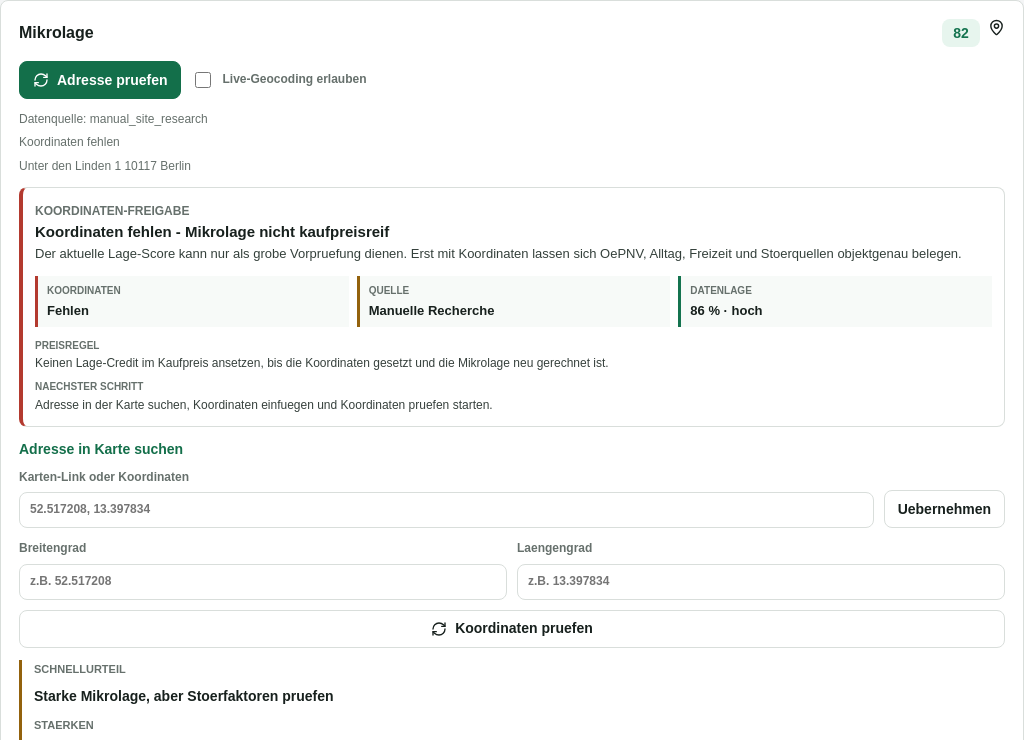
Test: DealMicroLocationPanel › submits manually entered coordinates without enabling live geocoding
In the field labelled "Breitengrad": (263, 582) [19,564,507,600], type "52.517208"
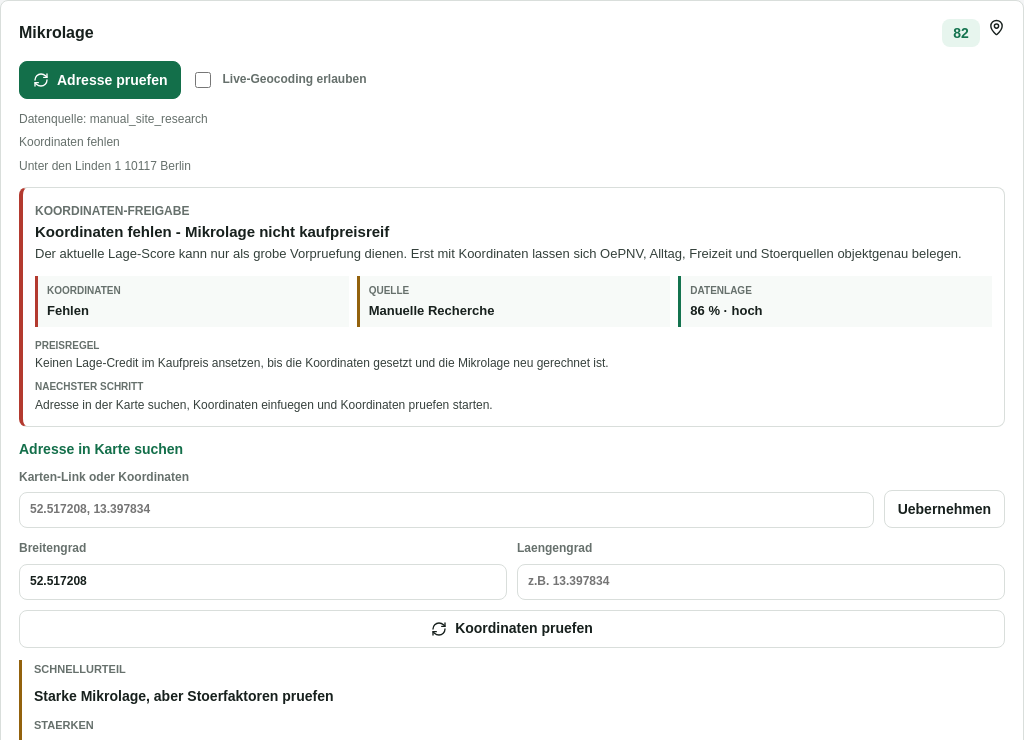
In the field labelled "Laengengrad": (761, 582) [517,564,1005,600], type "13.397834"
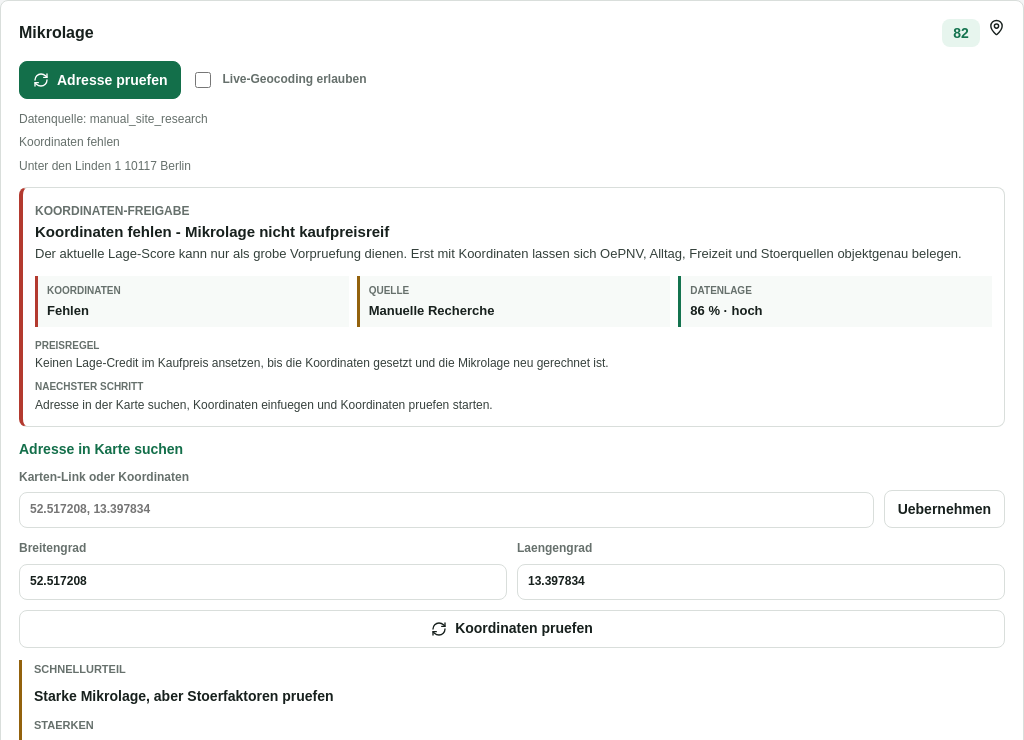
Click the button "Koordinaten pruefen": (512, 629) [19,610,1005,648]
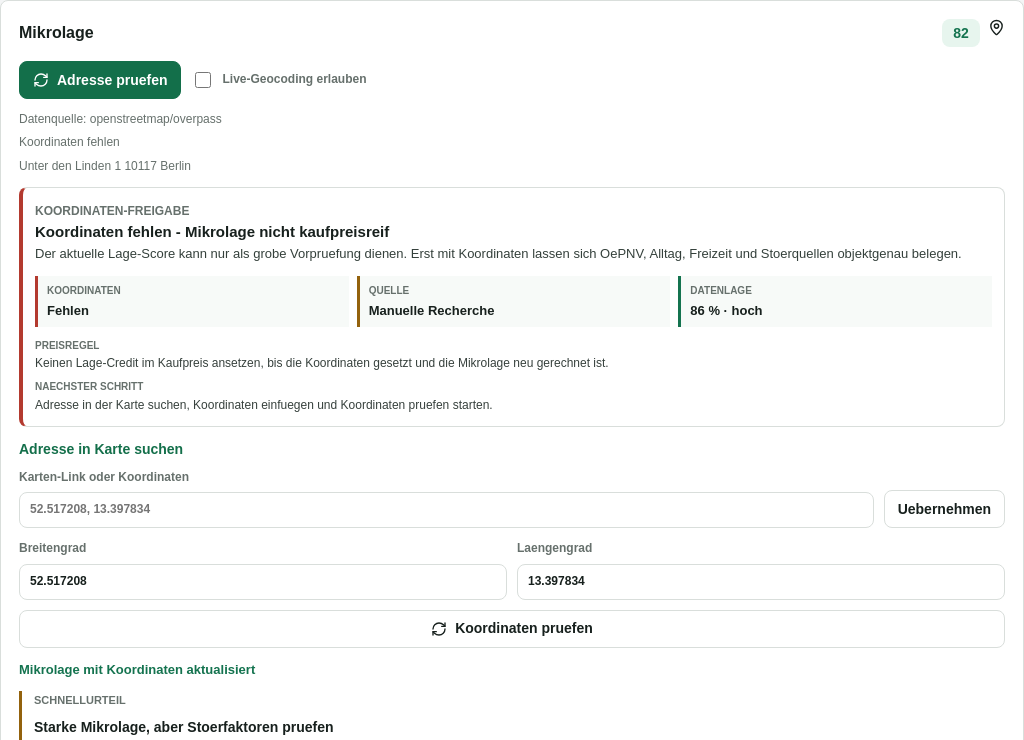
Expected: the text "Mikrolage mit Koordinaten aktualisiert" is shown, [19,662,255,677]
